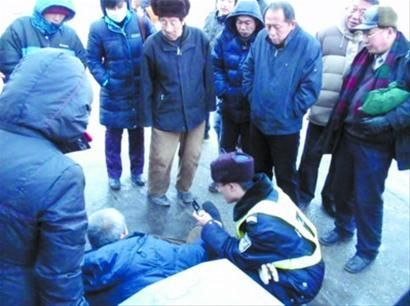fall: (77, 203, 210, 299)
